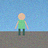person: (15, 13, 28, 35)
